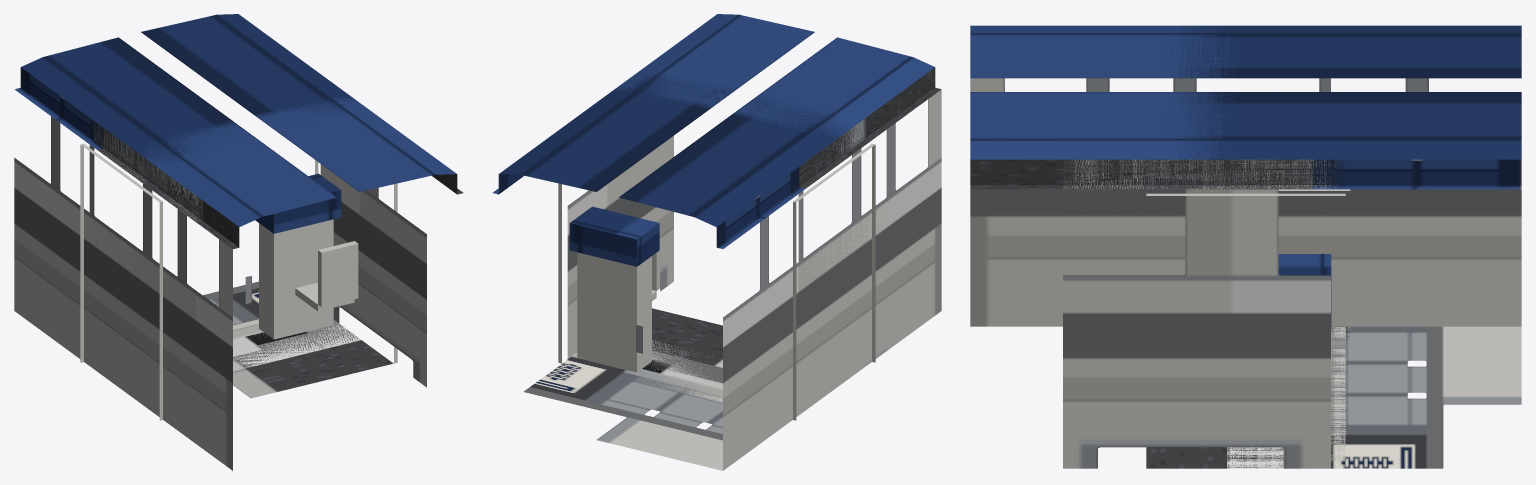
The model's file is r62_interior.obj.
3 views of the same model, side by side, from view 1: azimuth 30°, elevation 25°; view 2: azimuth 150°, elevation 25°; view 3: azimuth 270°, elevation 25° (orthographic). The views are drawn at different scales.
Visible parts, largest first — view 1: int_panel, int_end_cab, int_door; view 2: int_panel, int_end_cab, int_door; view 3: int_panel, int_end_cab, int_door.
Boxes of the visible parts, x1,y1,x2,y2 form: int_panel: (14,14,463,470); int_end_cab: (89,96,426,443); int_door: (80,65,397,420); int_panel: (492,14,941,470); int_end_cab: (567,41,904,415); int_door: (558,65,875,420); int_panel: (970,25,1521,468); int_end_cab: (1063,25,1350,468); int_door: (1146,25,1345,468).
Bounding box in the file's own units: 2.28 × 2.27 × 3.62.
